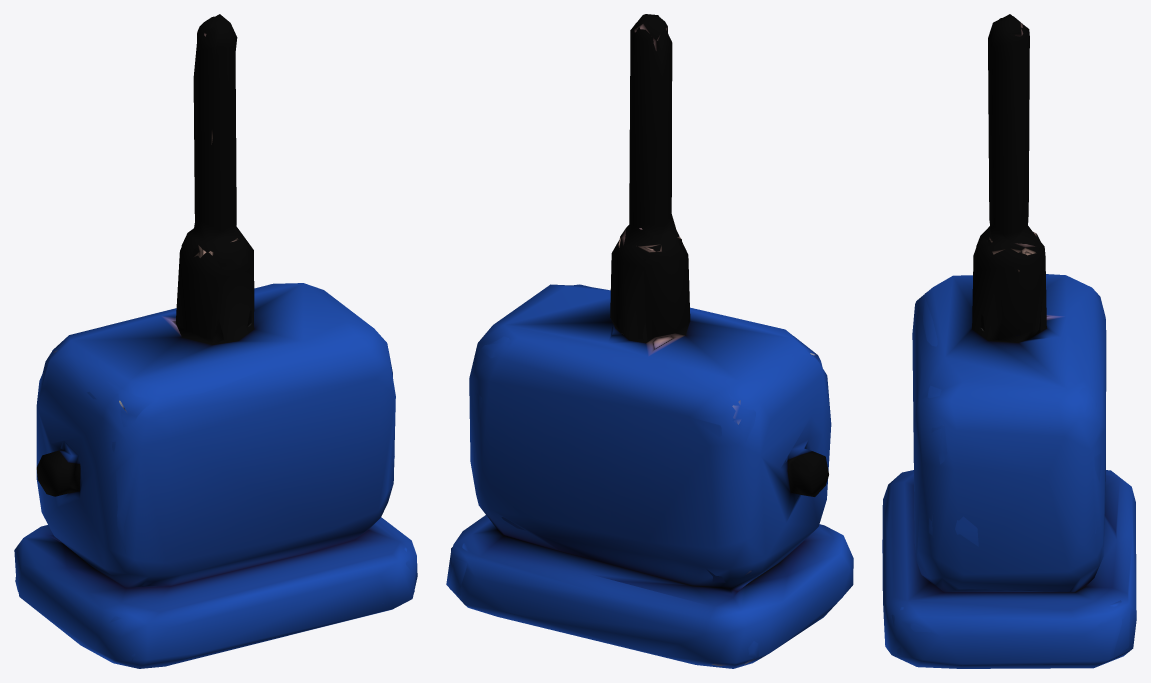
Rendered from gen3d-fishing-rod-rack-lod1.glb.
3 renders of one model, left to right at view 1: azimuth 30°, elevation 25°; view 2: azimuth 150°, elevation 25°; view 3: azimuth 270°, elevation 25°, orthographic.
Visible parts, largest first — view 1: part_0; view 2: part_0; view 3: part_0.
Part boxes in pixels (x1,y1,x2,y2): part_0: (14, 14, 417, 668); part_0: (446, 14, 853, 668); part_0: (882, 14, 1136, 668).
Size of the model in its own units: 0.5945 by 0.9953 by 0.3955.
